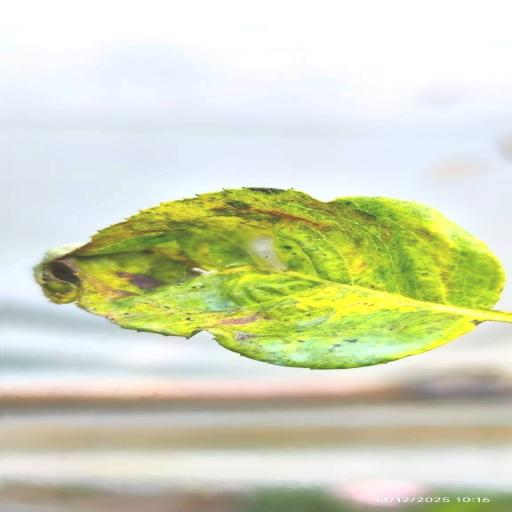thrip: (35, 187, 511, 369)
